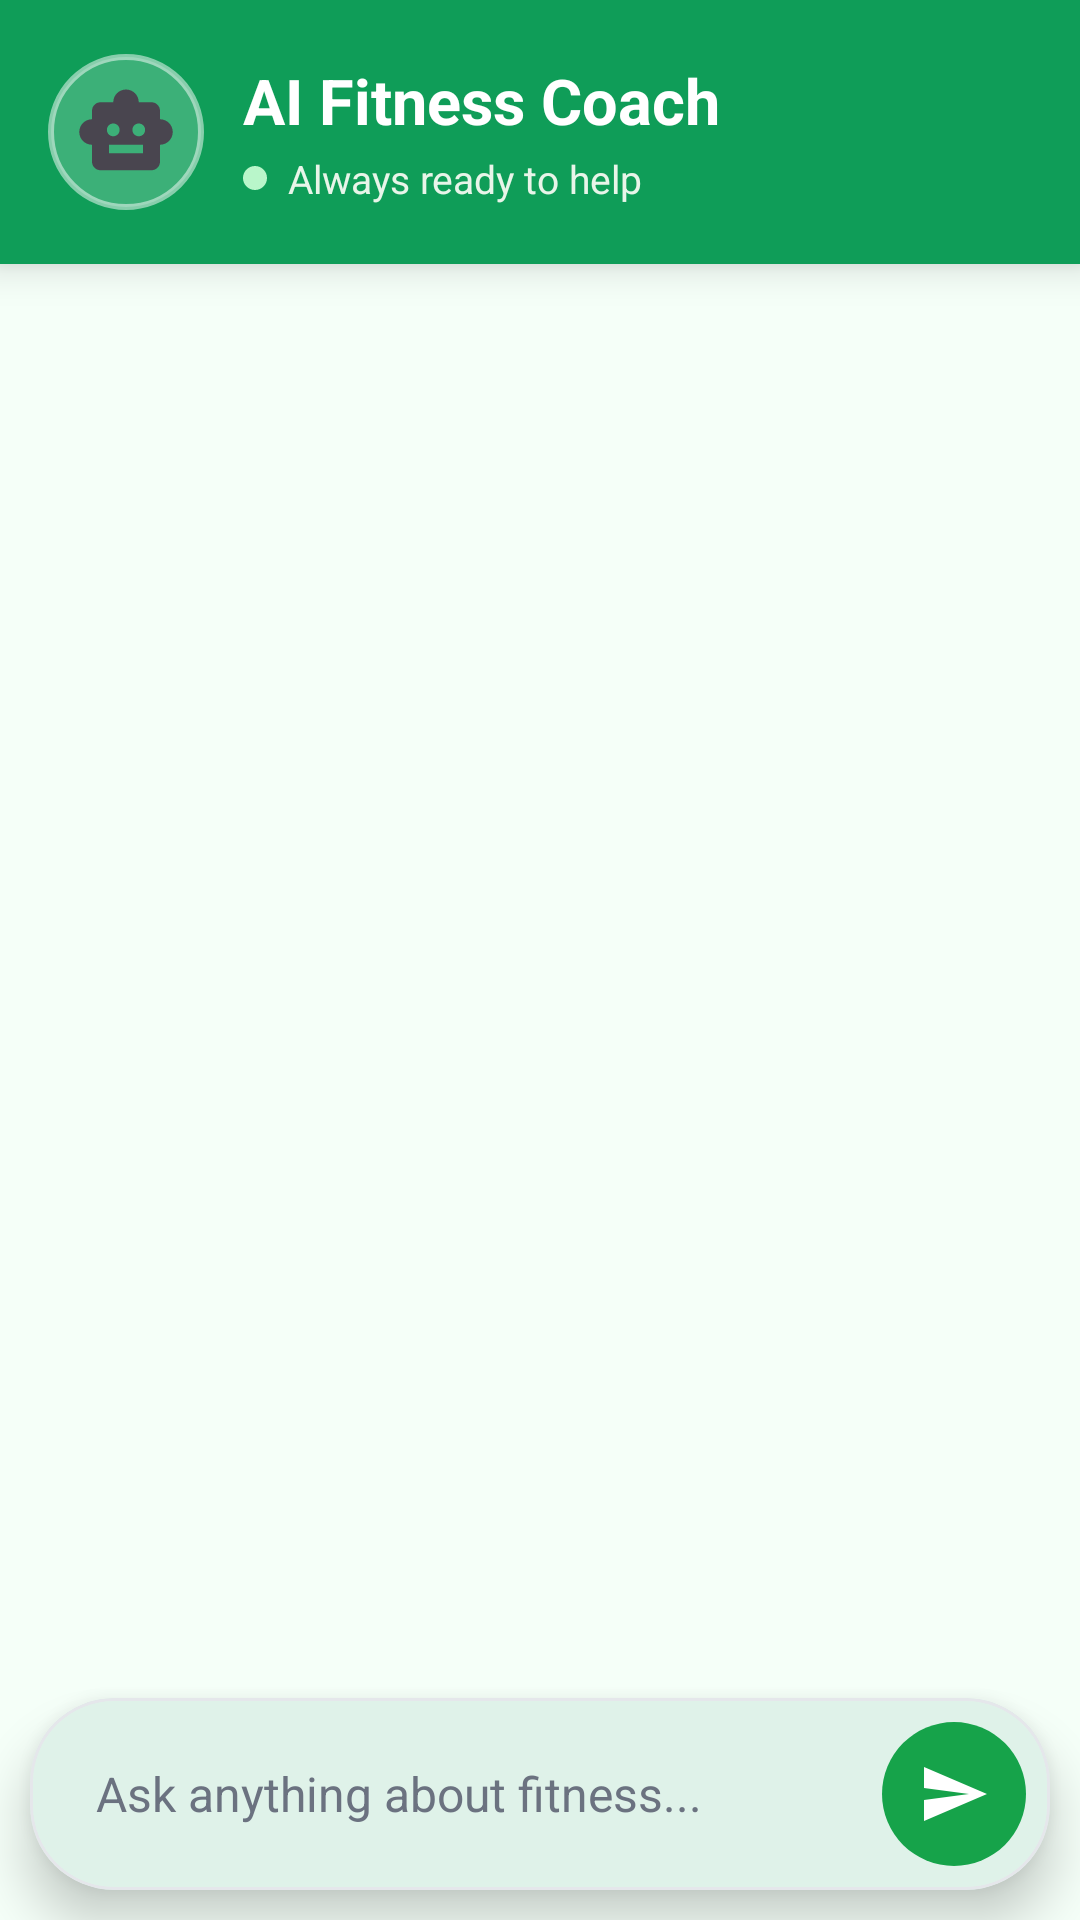

Icons on this 1080×1920 Android screen, each with the point to tap as (x,y):
Send message: (954,1794)
